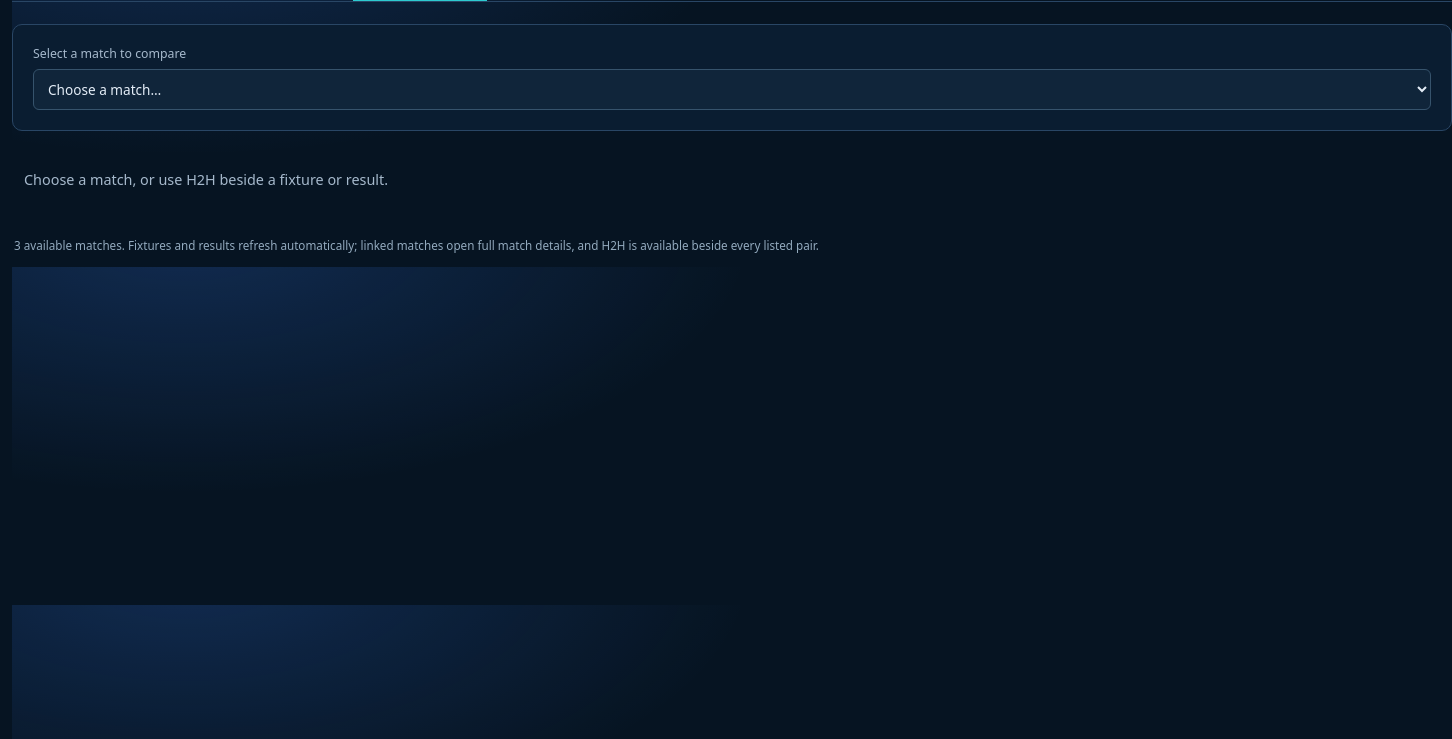
it: H2H tab starts empty, and only an explicit pair selection requests its history
This screenshot has width=1452, height=739.
Select "Alpha — Beta · 05/10/2026" in the dropdown named "Compare match" at point(732, 90), box 33,69 -> 1431,110
(page scrolled)
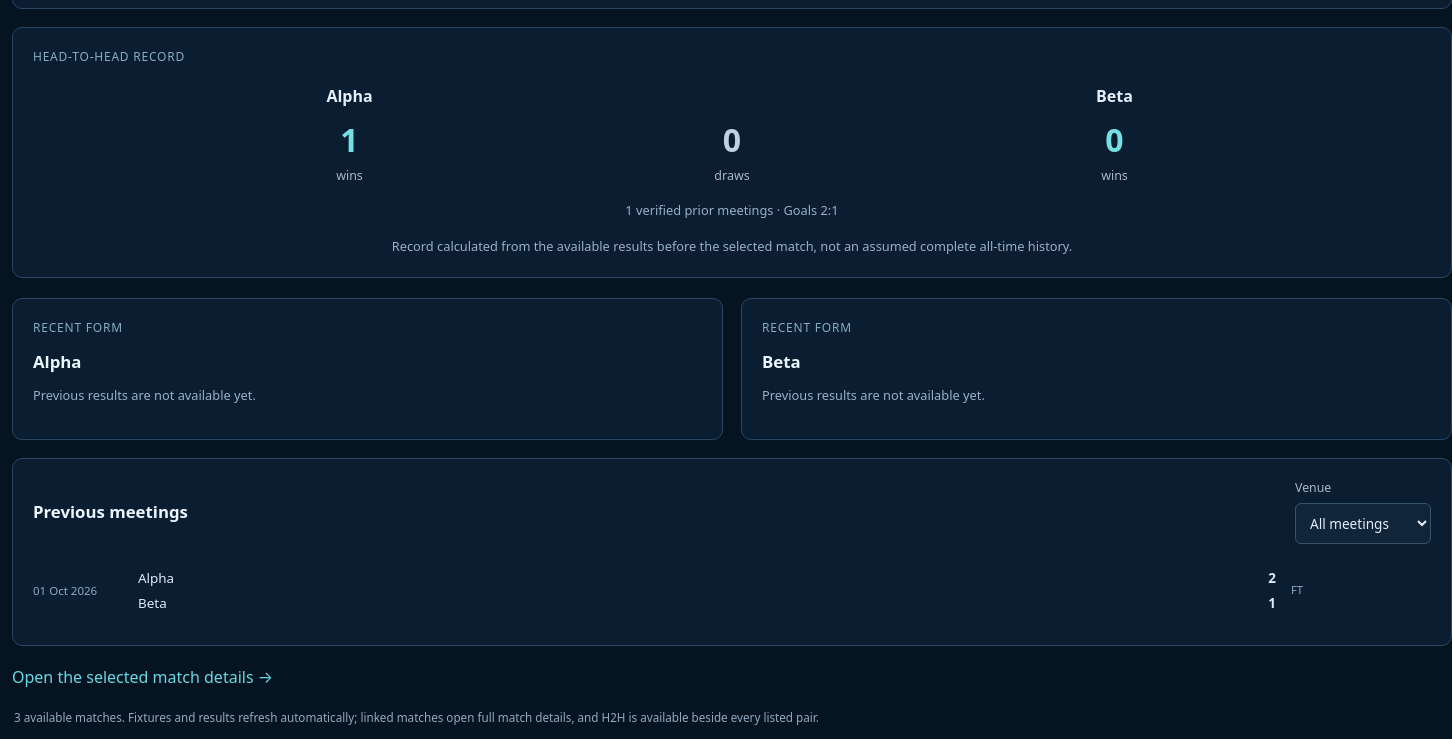
Now the text "Head-to-head record" is shown, box 33,48 -> 185,65
